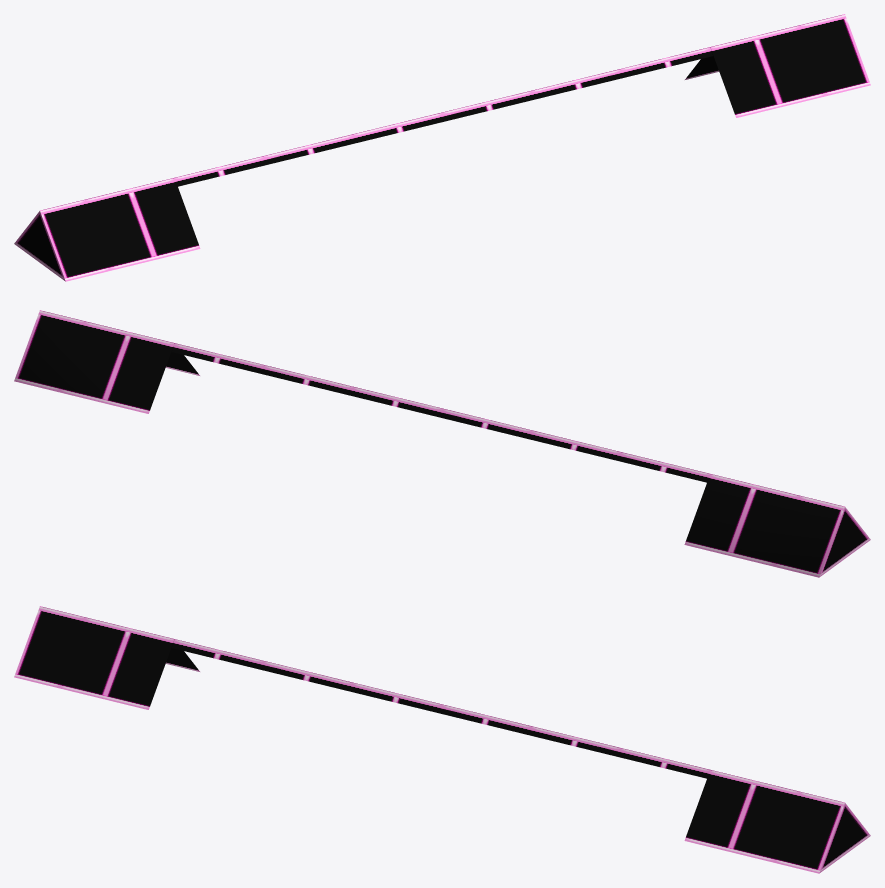
Rendered from Platform-1-experiment-1.fbx.
3 renders of one model, top to bottom at view 1: azimuth 30°, elevation 25°; view 2: azimuth 150°, elevation 25°; view 3: azimuth 330°, elevation 25°, orthographic.
Visible parts, largest first — view 1: ramp.003, ramp.001, ramp.002; view 2: ramp.003, ramp.001, ramp.002; view 3: ramp.001, ramp.003, ramp.002.
Boxes of the visible parts, box(x1,y1,x2,y2) form: ramp.003: box(14, 178, 200, 281); ramp.001: box(685, 14, 870, 117); ramp.002: box(175, 47, 712, 186); ramp.003: box(684, 474, 870, 577); ramp.001: box(14, 310, 199, 413); ramp.002: box(171, 343, 709, 482); ramp.001: box(684, 770, 870, 873); ramp.003: box(14, 606, 199, 709); ramp.002: box(172, 639, 709, 778).
Size of the model in its own units: 3298 by 204 by 368.
